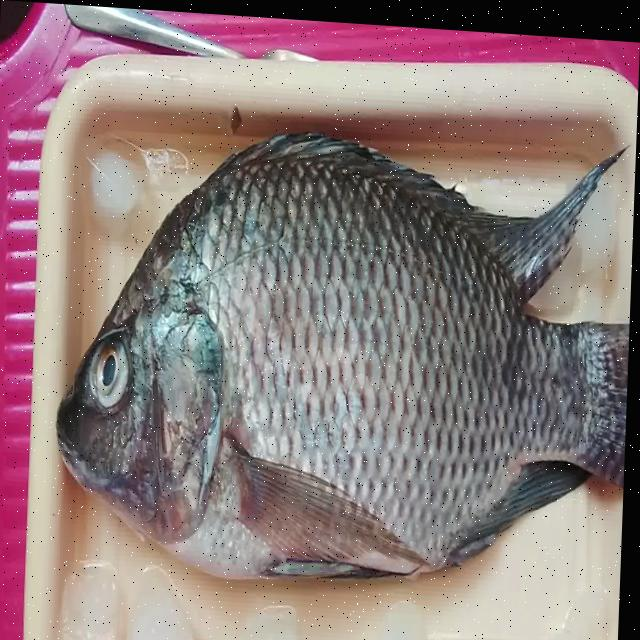Fresh: (177, 33, 639, 614), (91, 325, 148, 456)
